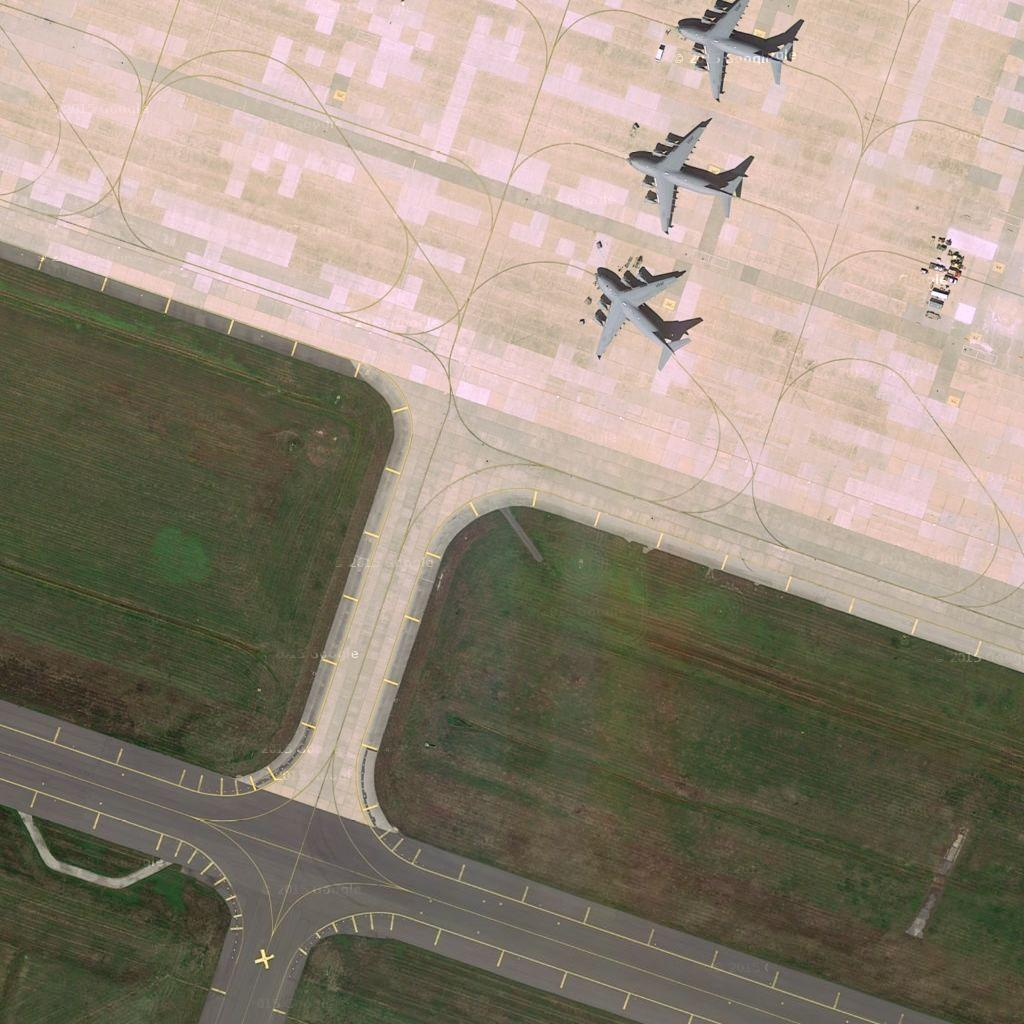C-17: (623, 118, 757, 228), (578, 256, 701, 375), (671, 1, 803, 103)
